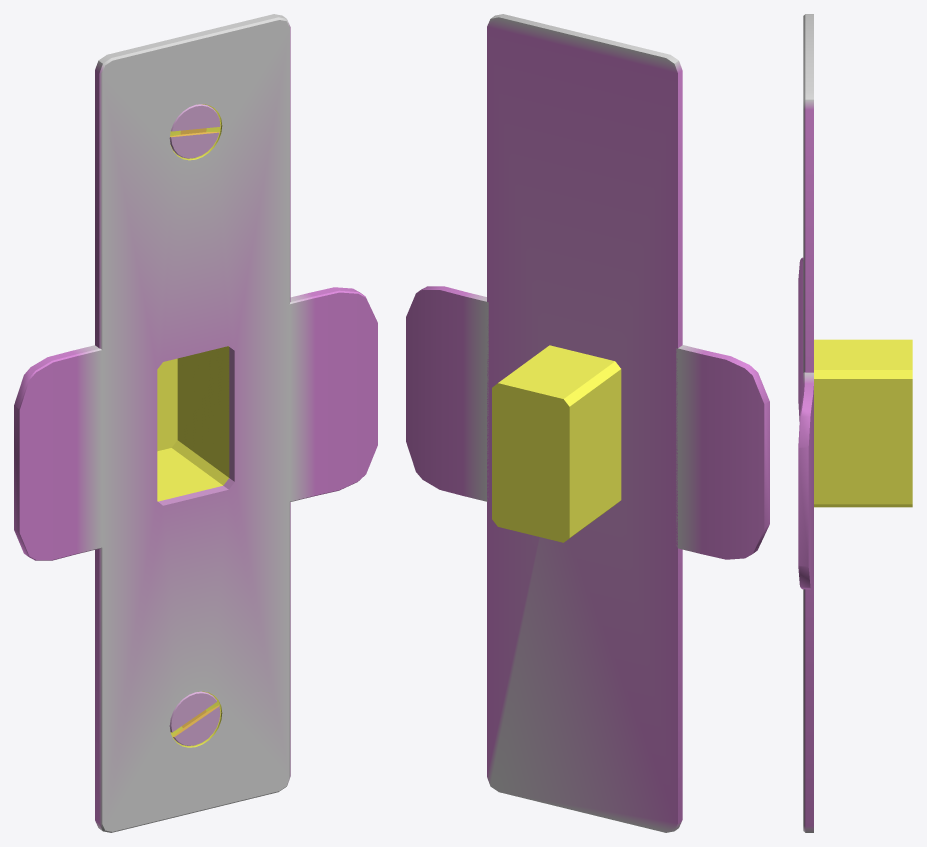
File: Kit_Lock_StrikeBored_DA.fbx
3 views of the same model, side by side, from view 1: azimuth 30°, elevation 25°; view 2: azimuth 150°, elevation 25°; view 3: azimuth 270°, elevation 25° (orthographic). The views are drawn at different scales.
Parts seen in each view (by area): view 1: Kit_Lock_StrikeBored_DA_LOD0; view 2: Kit_Lock_StrikeBored_DA_LOD0; view 3: Kit_Lock_StrikeBored_DA_LOD0.
Boxes of the visible parts, x1=… form: Kit_Lock_StrikeBored_DA_LOD0: x1=14, y1=14, x2=377, y2=832; Kit_Lock_StrikeBored_DA_LOD0: x1=406, y1=14, x2=769, y2=832; Kit_Lock_StrikeBored_DA_LOD0: x1=798, y1=14, x2=912, y2=832.
Size of what is drawn, in the model's own units: 0.06 by 0.124 by 0.0174.
